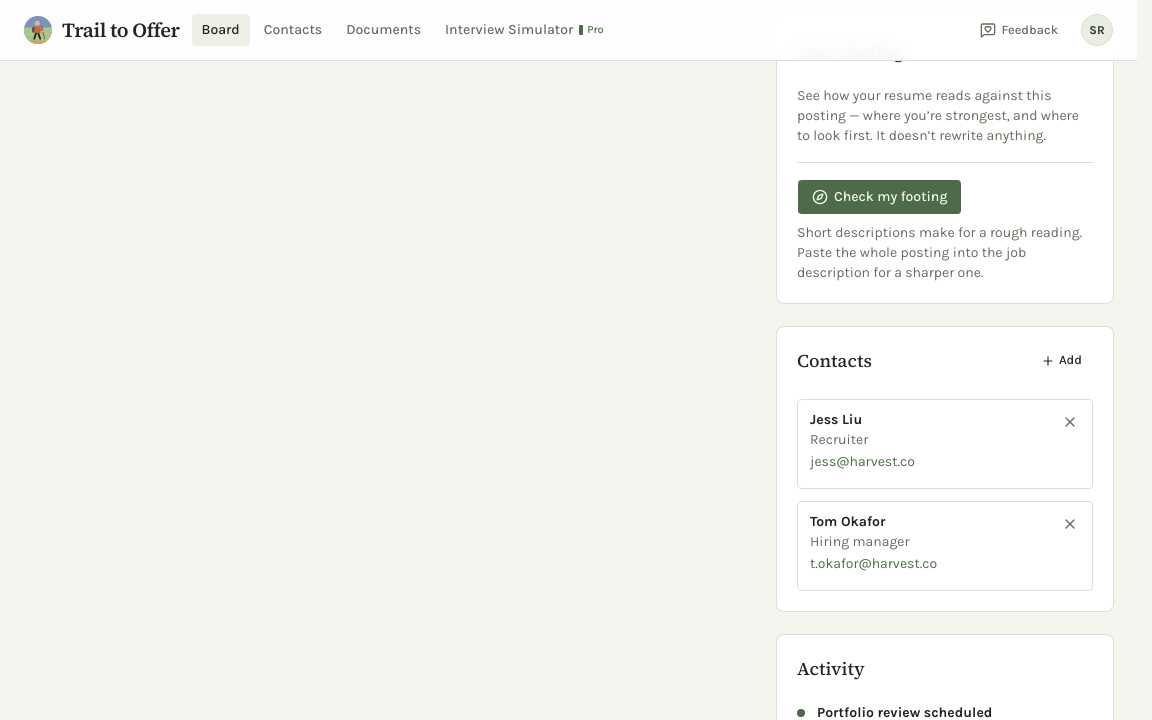
Test: the job page's Contacts card (ticket 14) › CON-J2: linking is search-first, and an existing contact is linked rather than re-created
(page scrolled)
Click the button with aria-label "Add contact".
click(1062, 361)  # box [1030, 347, 1093, 375]
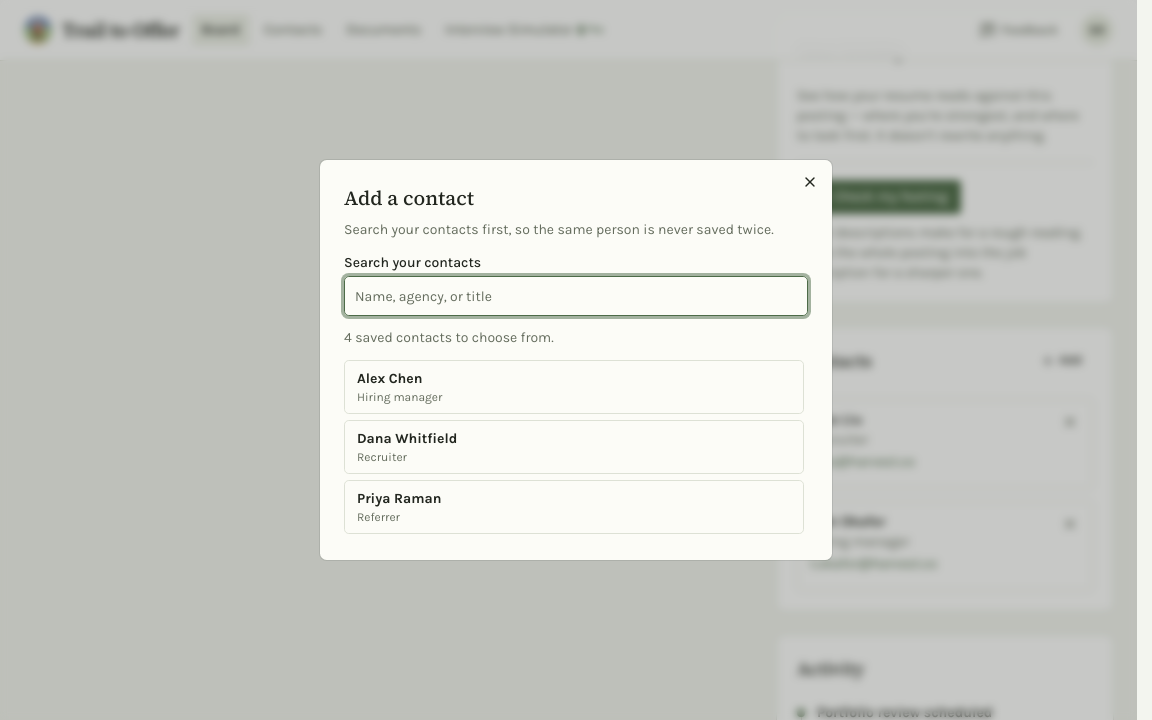
Type "pri" into the search field labelled "Search your contacts".
click(576, 296); type("pri")  # box [344, 276, 808, 316]
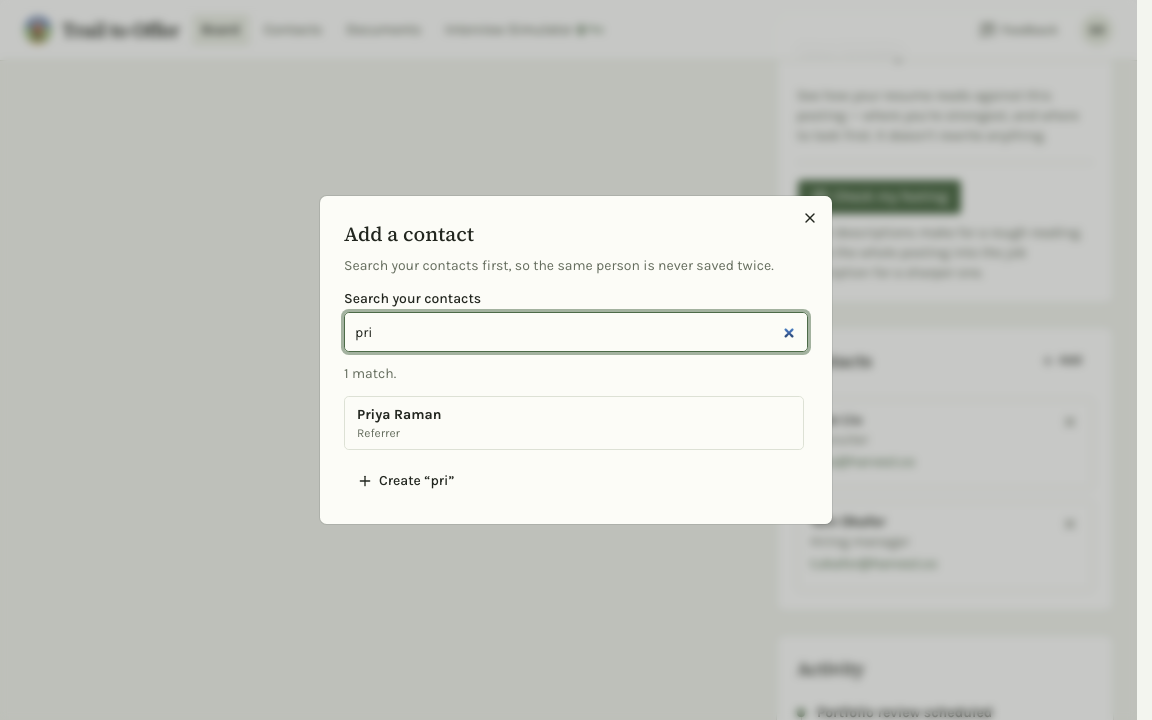
Click the button "Priya Raman Referrer".
click(399, 414)  # box [344, 396, 804, 450]
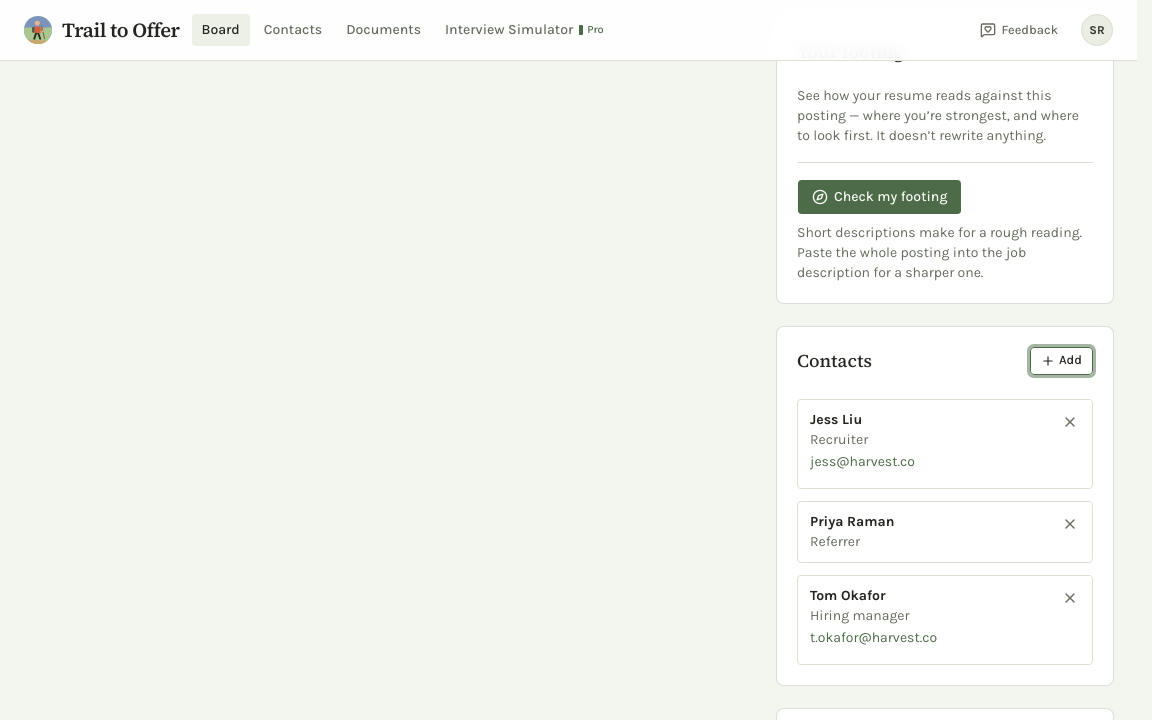
Expected: the link "Priya Raman" is shown, [810, 513, 894, 530]
Expected: the heading "Add a contact" is gone
